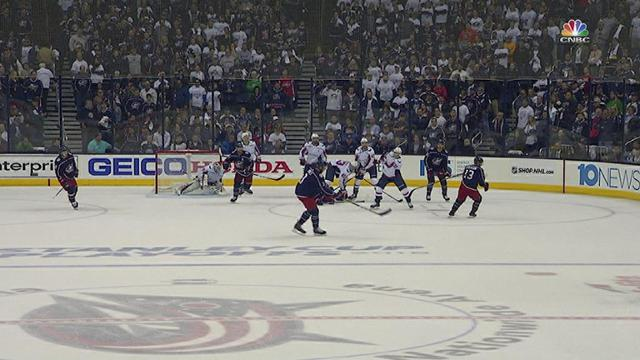geico: (85, 154, 188, 180)
